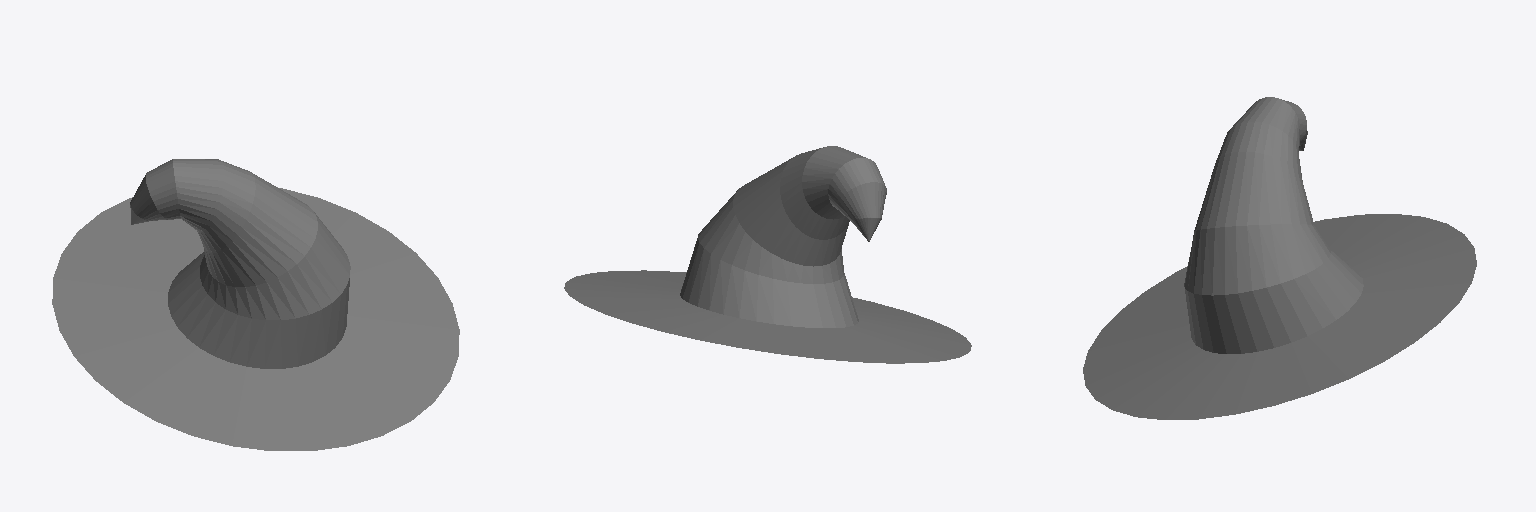
The model's file is wizardHatFinal.obj.
The picture shows the model from 3 angles: view 1: azimuth 30°, elevation 25°; view 2: azimuth 150°, elevation 25°; view 3: azimuth 270°, elevation 25°; orthographic projection.
Parts seen in each view (by area): view 1: Mesh.005_low_Cone; view 2: Mesh.005_low_Cone; view 3: Mesh.005_low_Cone.
Part boxes in pixels (bbox=[...]): Mesh.005_low_Cone: bbox=[52, 159, 459, 450]; Mesh.005_low_Cone: bbox=[564, 146, 971, 363]; Mesh.005_low_Cone: bbox=[1083, 97, 1476, 419].
Size of the model in its own units: 1.18 by 0.7382 by 1.13.